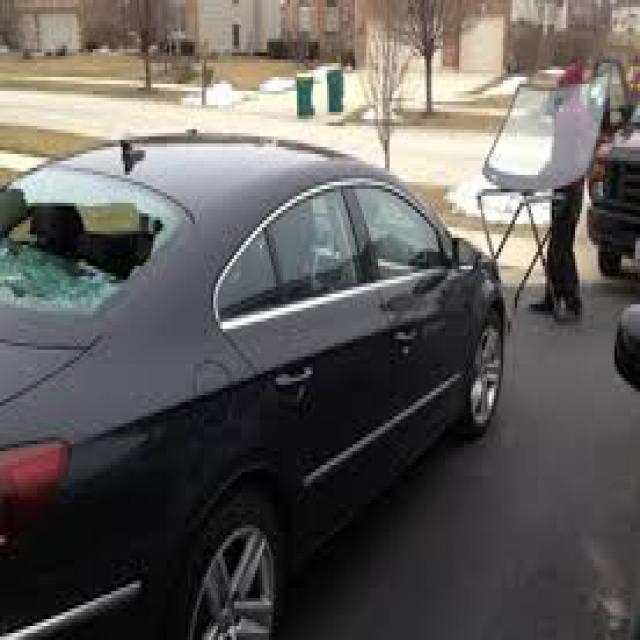Rear-windscreen-Damage: (0, 168, 181, 326)
